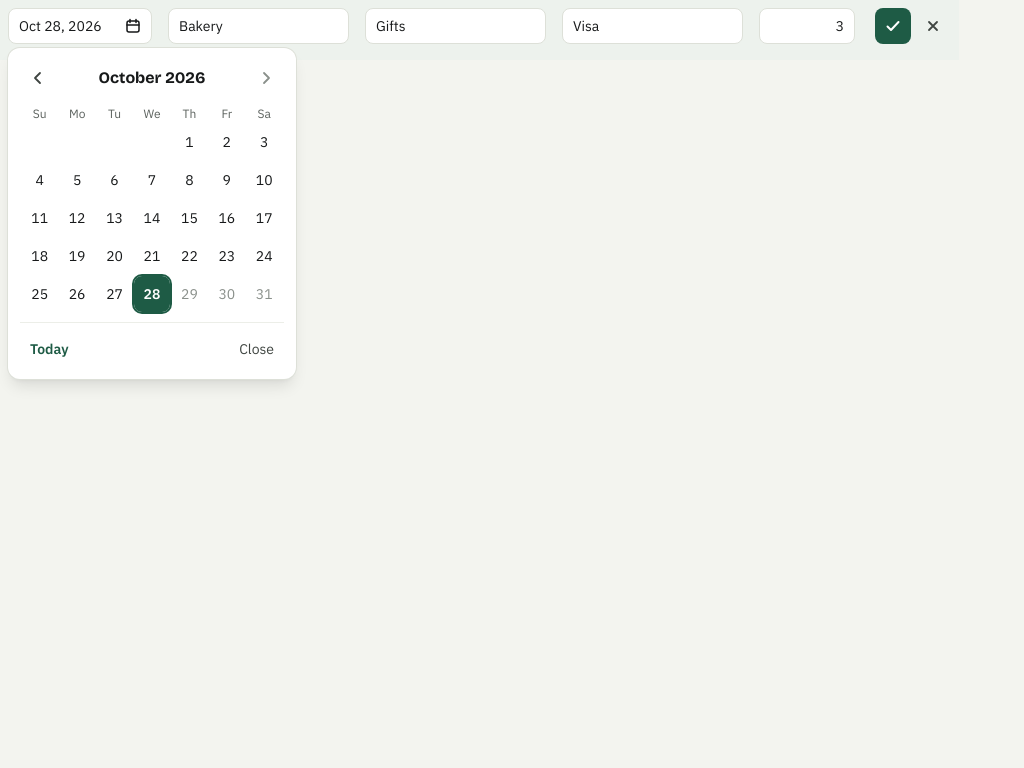
Test: EntryRow › shows a server refusal and keeps what was typed
Click the button named "Save spending".
click(893, 26)  # box x1=875 y1=8 x2=911 y2=44
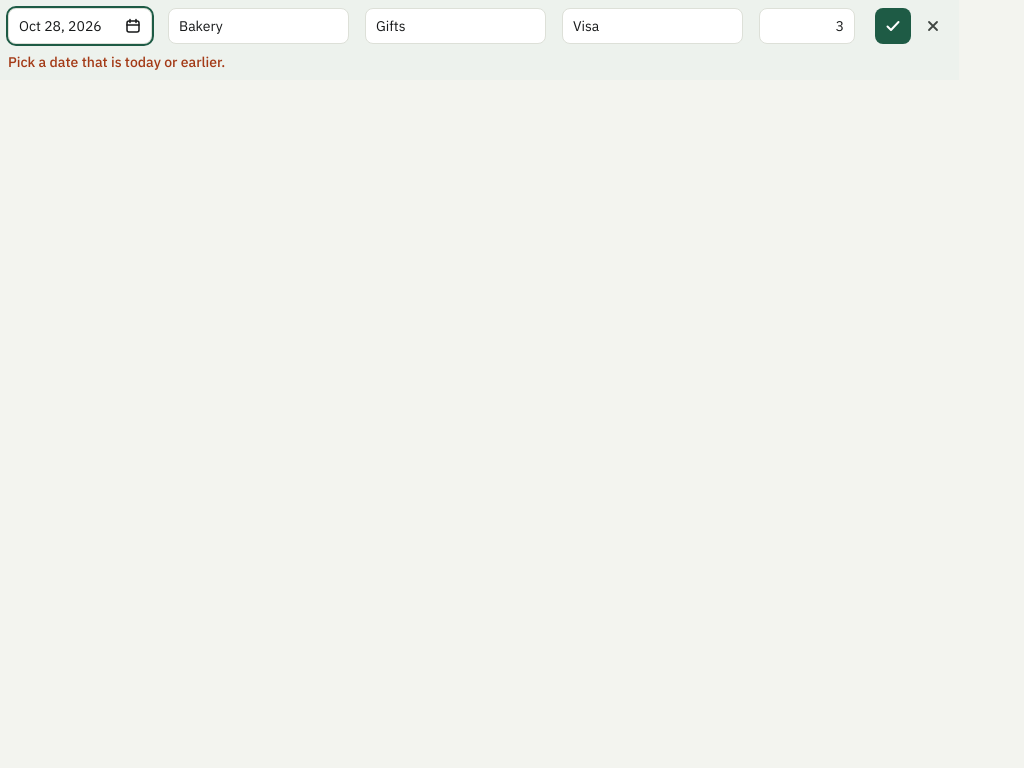
Expected: the dropdown named "Merchant" holds "Bakery", x1=168 y1=8 x2=349 y2=44
Now the text "Pick a date that is today or earlier." is shown, box x1=8 y1=53 x2=225 y2=71
